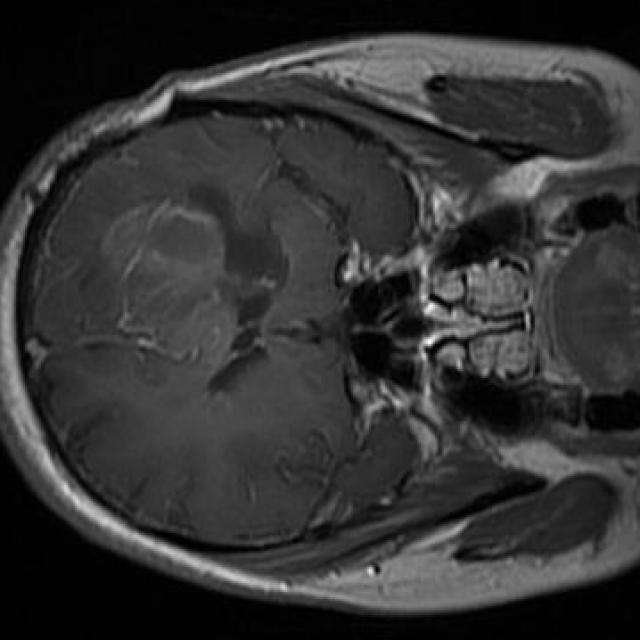glioma: (103, 184, 289, 394)
